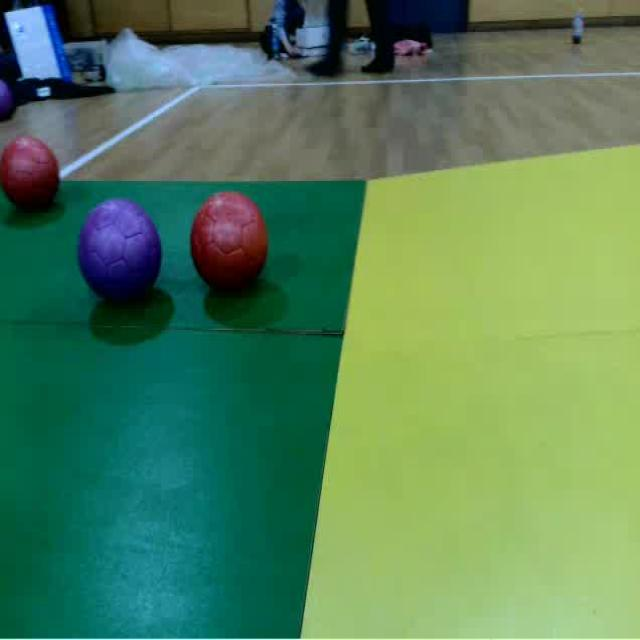purple_ball: (76, 199, 164, 310), (0, 77, 16, 122)
red_ball: (191, 190, 268, 293), (0, 139, 64, 214)
